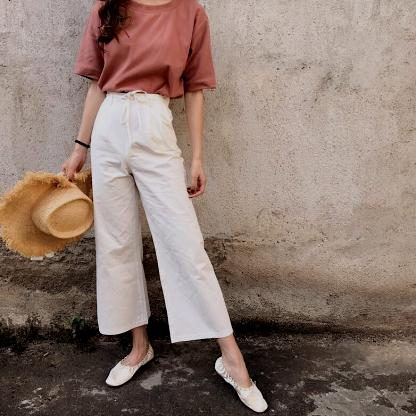dress: (88, 90, 236, 342), (73, 0, 220, 95)
